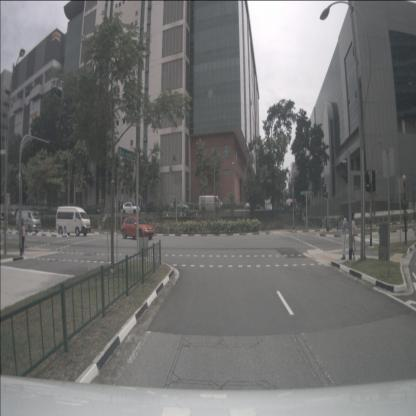human-pedestrian-adult: (338, 211, 349, 261), (349, 212, 356, 260), (19, 218, 25, 256)
vehicle-car: (56, 207, 91, 235), (122, 217, 154, 239), (16, 211, 41, 233), (198, 196, 223, 212), (245, 200, 264, 215), (122, 203, 140, 216), (170, 201, 190, 212), (84, 204, 102, 216), (283, 197, 296, 211)
